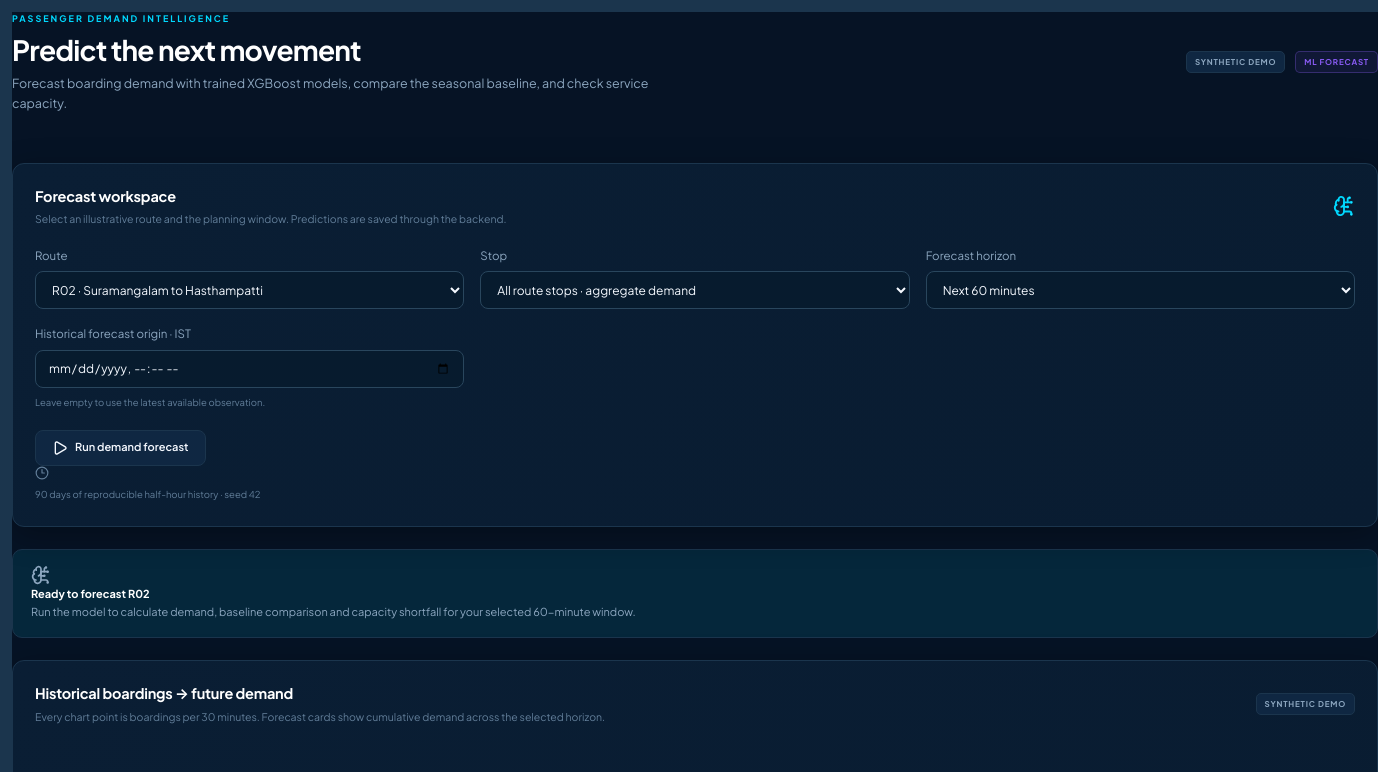
Test: Passenger demand page › shows server validation errors without presenting a forecast result
Click the button "Run demand forecast" at (120, 448), box [35, 430, 206, 466]
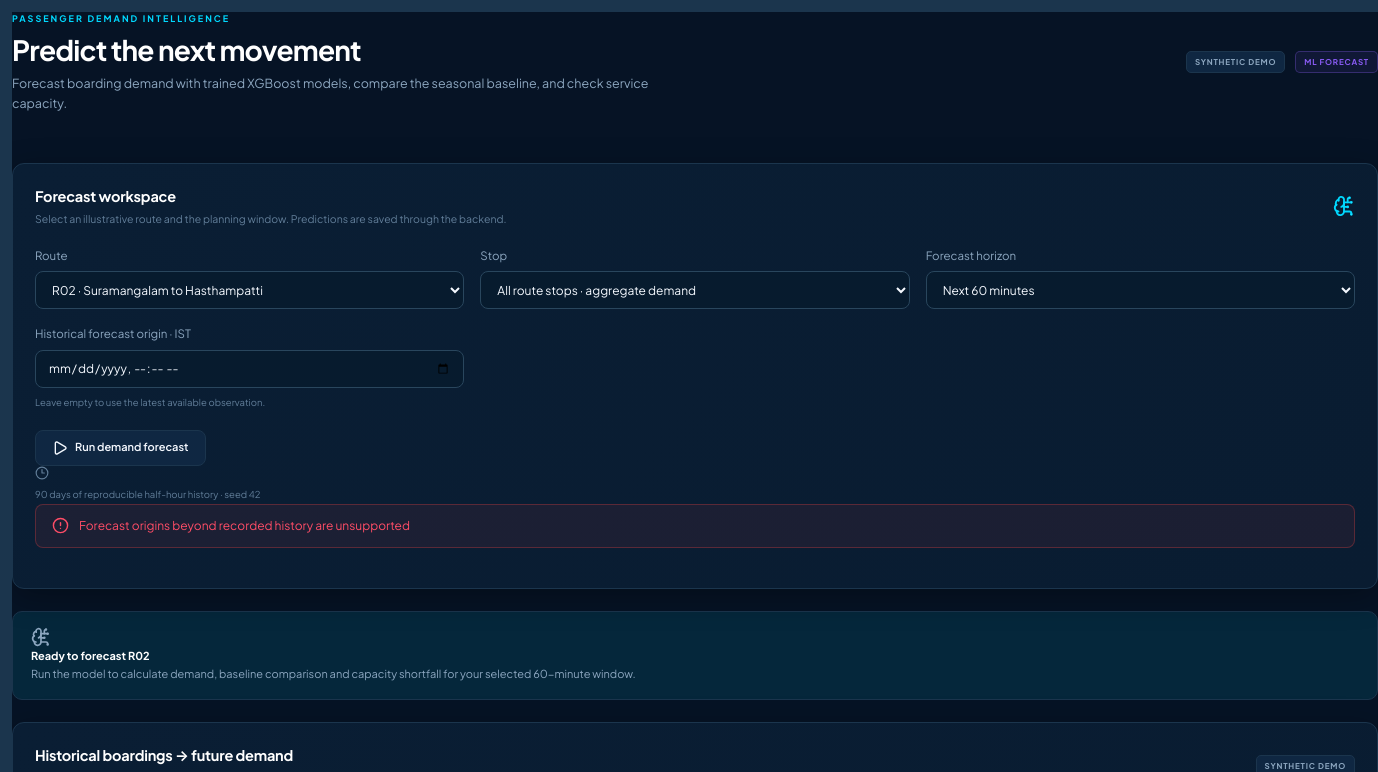
expect the message "Forecast origins beyond recorded history are unsupported" is shown: met, box [35, 504, 1355, 548]
expect the text "Forecast origins beyond recorded history are unsupported" is shown: met, box [79, 518, 410, 533]
